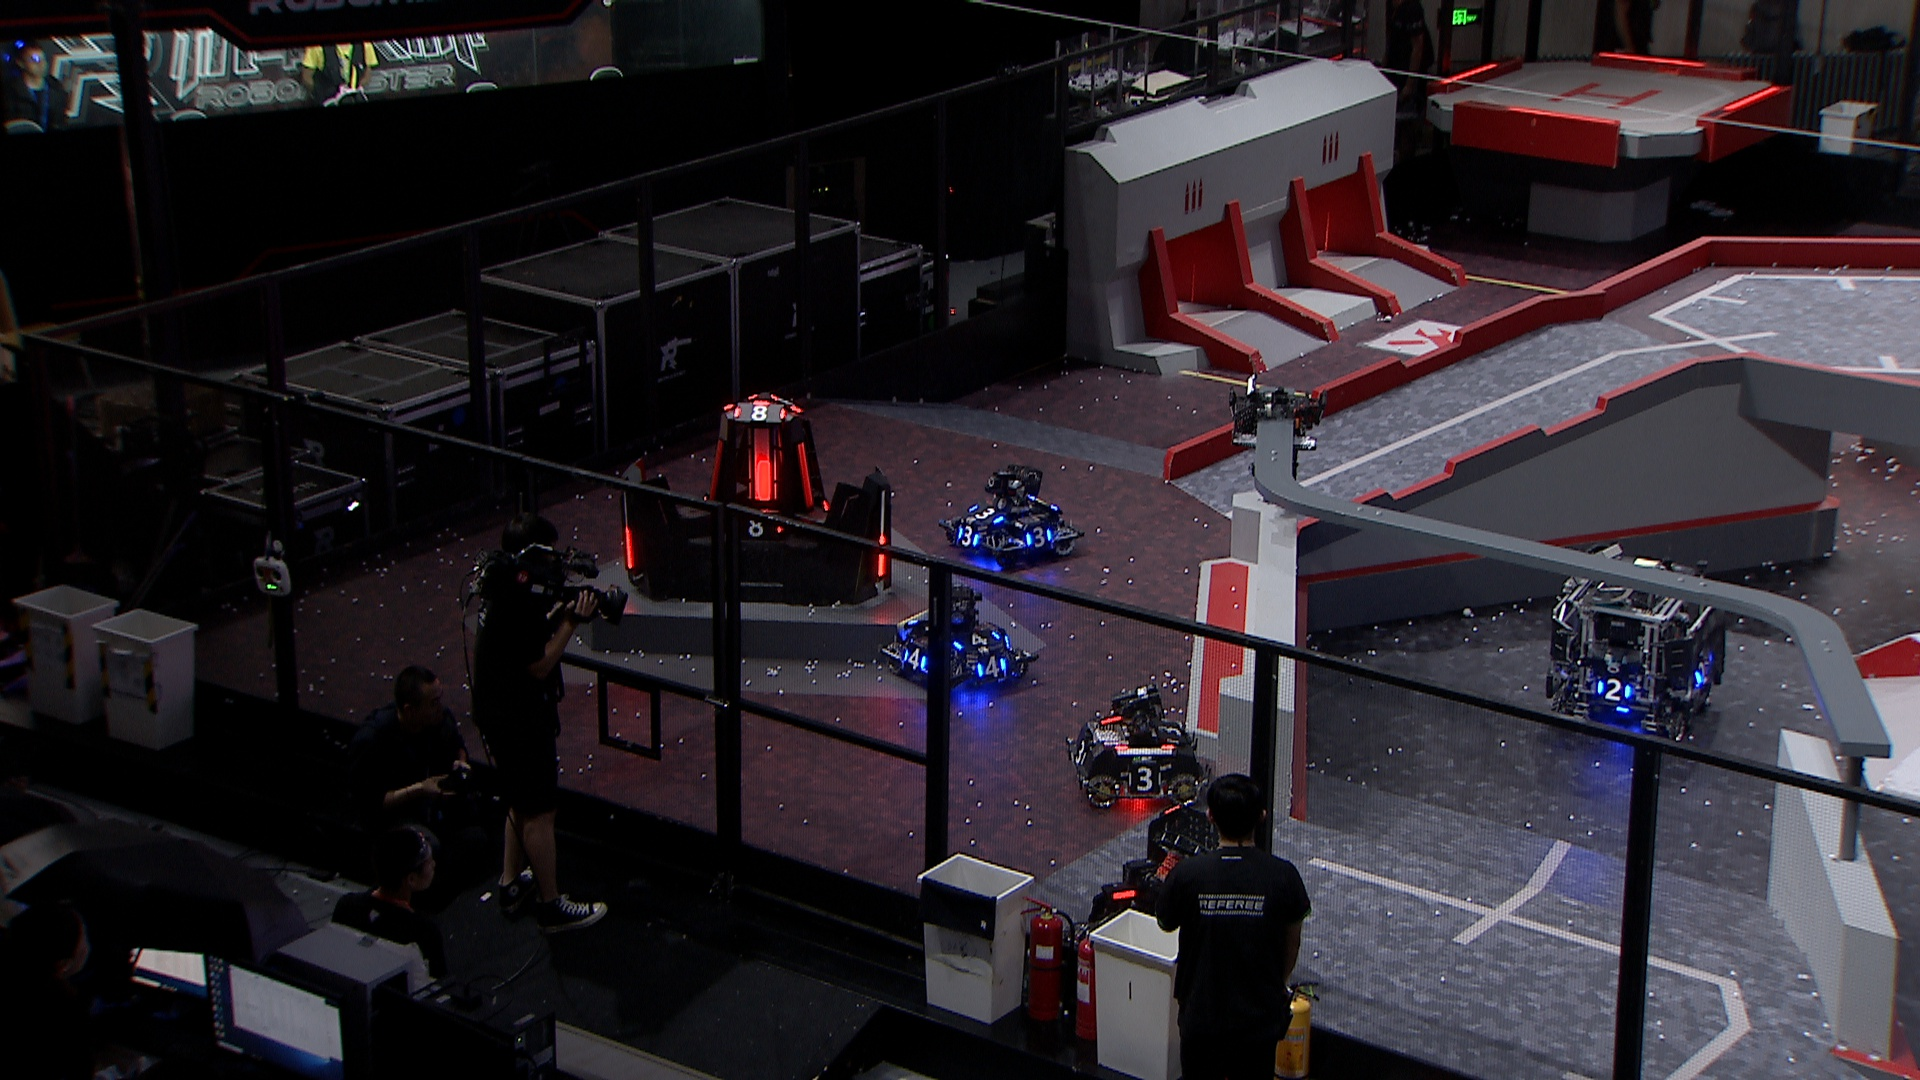armor: (796, 442, 814, 506), (735, 513, 781, 537), (707, 434, 723, 501), (1125, 764, 1164, 790), (754, 458, 775, 505), (733, 404, 787, 422), (953, 628, 997, 647), (1594, 678, 1629, 703), (971, 502, 1004, 526), (975, 654, 1006, 678), (901, 646, 926, 673), (622, 524, 636, 572), (1022, 526, 1054, 545), (876, 529, 887, 578), (1158, 719, 1179, 744), (1693, 661, 1712, 688), (1069, 735, 1087, 764), (956, 526, 978, 546)
base: (613, 392, 895, 604)
car: (1542, 541, 1733, 749), (1083, 787, 1262, 936), (1063, 678, 1212, 811), (884, 582, 1035, 688), (942, 465, 1087, 564)
watcher: (1222, 371, 1324, 498)
